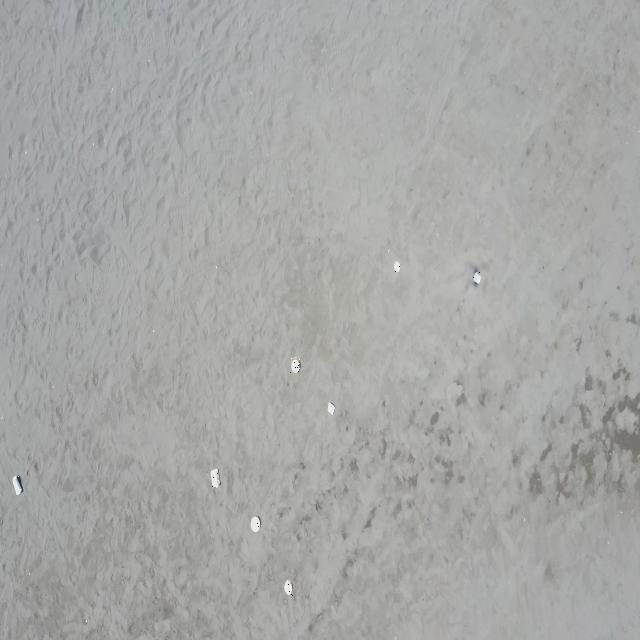take-away-containers: (210, 467, 220, 489), (250, 516, 261, 533), (290, 356, 300, 374), (284, 580, 293, 596), (327, 401, 336, 416), (472, 272, 482, 284), (393, 261, 401, 273)
takeaway-cup: (12, 475, 22, 496)
